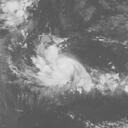cyclone: (34, 40, 93, 91)
